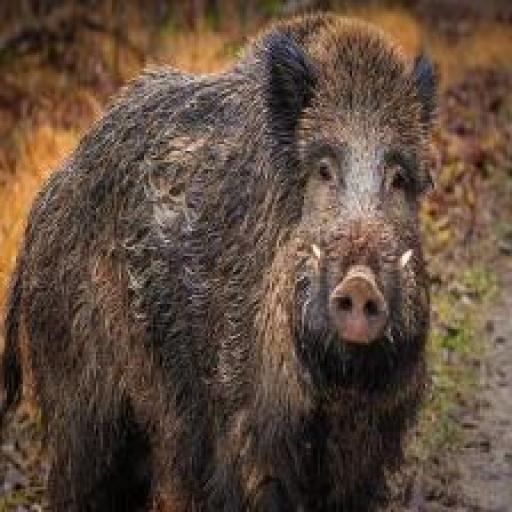Pig: (0, 9, 440, 511)
